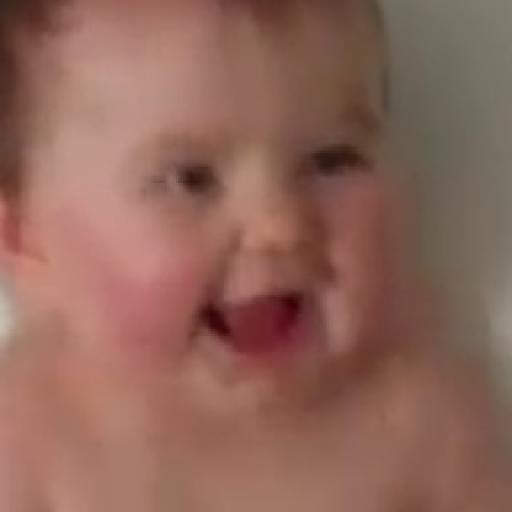Autism: (29, 23, 512, 506)
